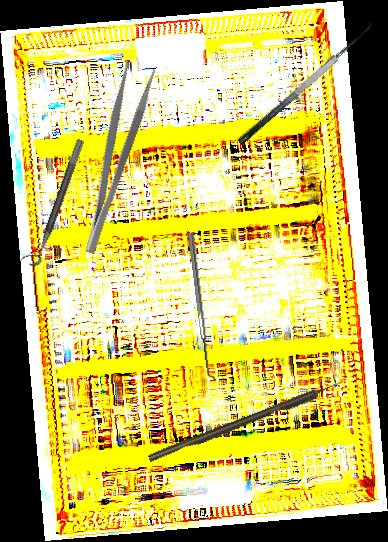Dressing Forceps: (65, 60, 159, 256)
Fixation Ring: (19, 134, 86, 269)
Hook Surgical: (147, 379, 345, 463)
Spatula Surgical: (226, 13, 379, 147), (187, 231, 218, 382)
